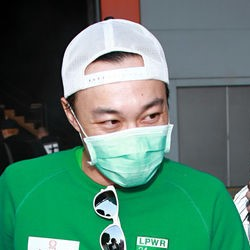mask: (62, 106, 176, 192)
